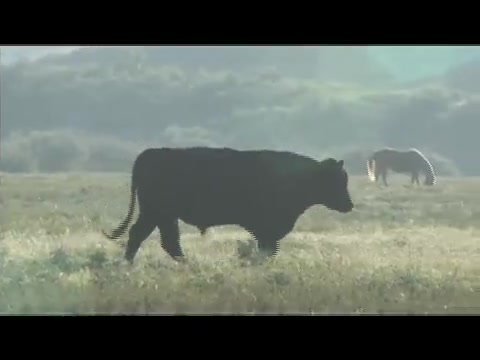cow: (106, 147, 357, 265), (367, 149, 438, 189)
